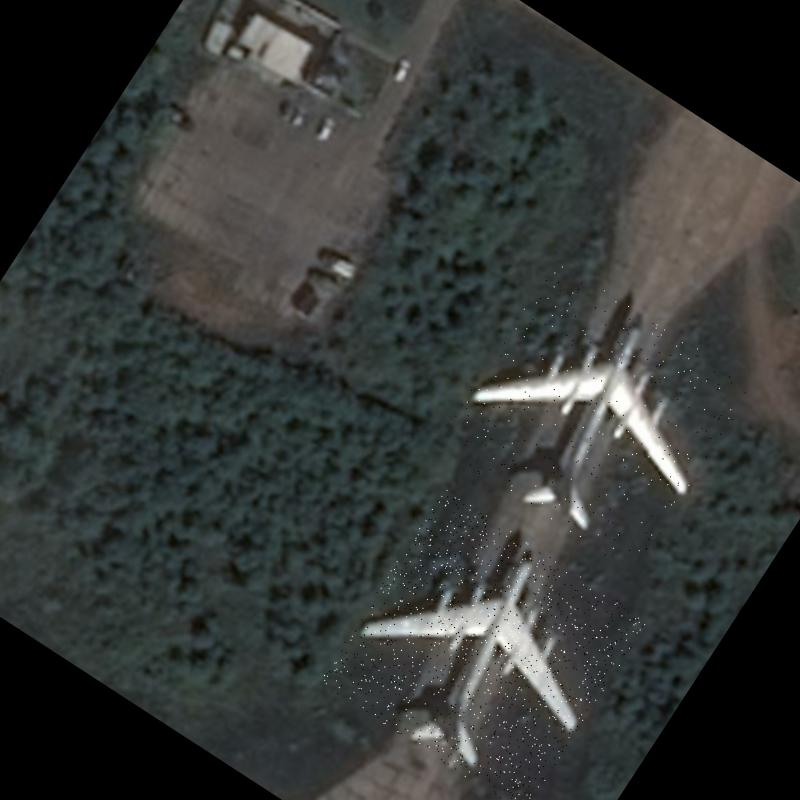A17: (433, 254, 757, 574), (318, 488, 648, 800)
